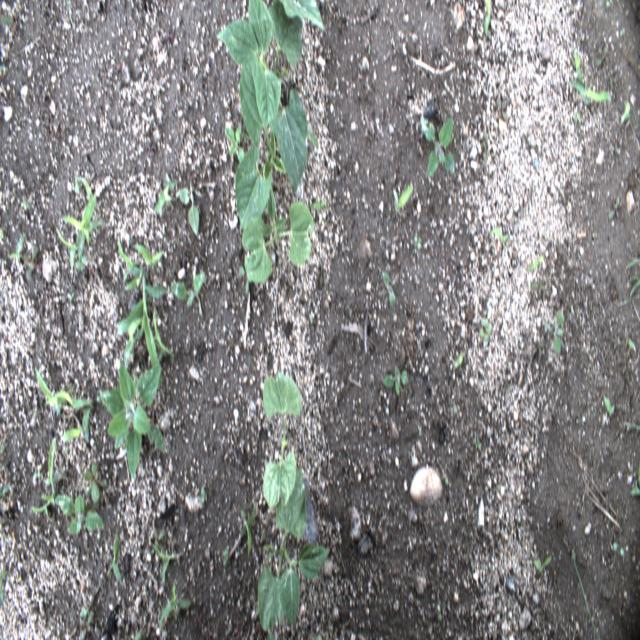crop: (215, 0, 326, 191), (258, 466, 330, 640), (235, 53, 286, 230), (242, 184, 314, 284), (263, 371, 301, 510)
weed: (99, 360, 167, 481), (117, 235, 169, 383), (60, 177, 104, 261), (35, 366, 94, 416), (29, 436, 56, 526), (419, 115, 455, 178), (570, 50, 612, 104), (55, 492, 105, 536), (159, 580, 192, 638), (175, 173, 199, 236), (151, 542, 183, 586), (61, 398, 90, 443), (153, 303, 174, 365), (170, 271, 206, 307), (83, 458, 109, 503), (543, 309, 565, 357), (239, 499, 256, 559), (380, 364, 409, 395), (107, 531, 122, 586), (226, 125, 244, 168), (132, 244, 165, 266), (156, 181, 173, 215), (381, 270, 395, 310), (393, 186, 414, 212), (533, 556, 553, 574), (602, 393, 614, 418), (484, 1, 491, 39), (481, 317, 492, 341)
